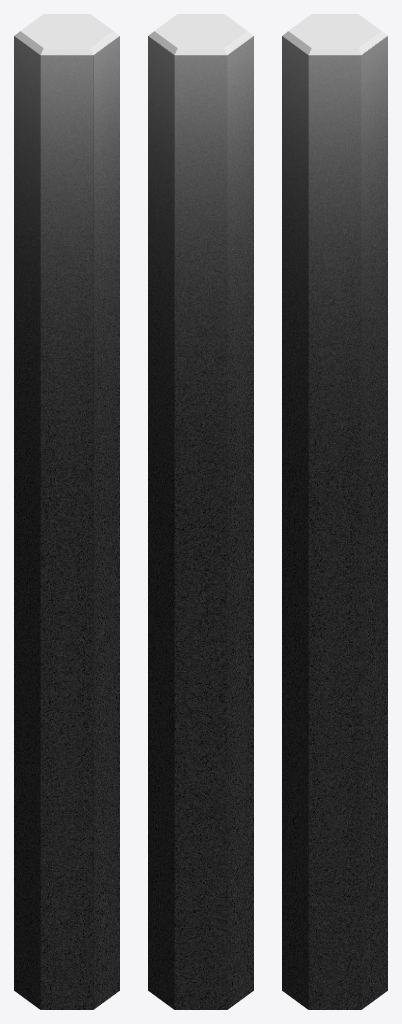
Rendered from hexa_eith_edge_AO.glb.
3 views of the same model, side by side, from view 1: azimuth 90°, elevation 25°; view 2: azimuth 150°, elevation 25°; view 3: azimuth 270°, elevation 25° (orthographic).
Visible parts, largest first — view 1: Cylinder; view 2: Cylinder; view 3: Cylinder.
Boxes of the visible parts, box(x1,y1,x2,y2) form: Cylinder: box(14, 14, 119, 1009); Cylinder: box(148, 14, 253, 1009); Cylinder: box(282, 14, 387, 1009).
Bounding box in the file's own units: 1.73 × 20 × 2.
Materials: 1 (1 with a texture image).
